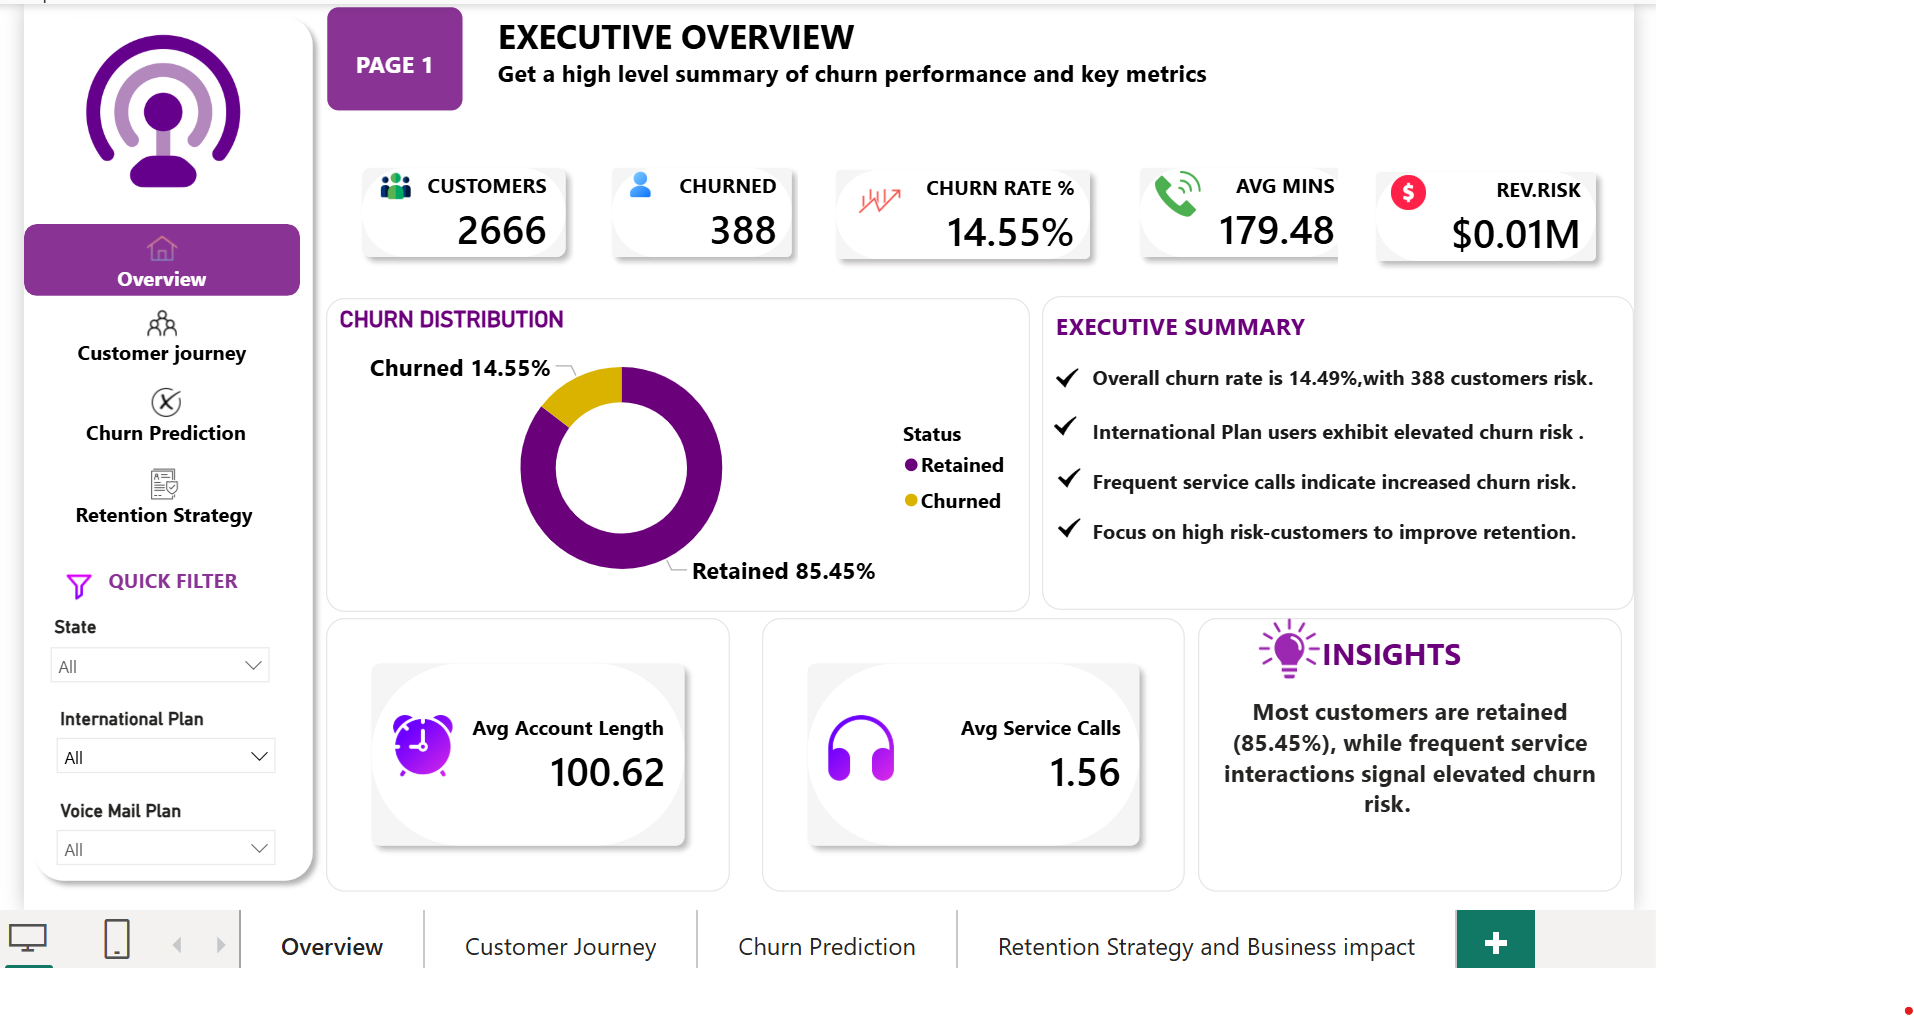

The dashboard page shown, as its layout file describes it:
{"tool":"powerbi","page":{"name":"Overview 1","canvas":[1280,720],"ordinal":0},"visuals":[{"type":"shape","box":[0,1.6,238.4,720],"z":0},{"type":"cardVisual","fields":{"Data":["telecom churn.TOTAL CUSTOMERS"]},"box":[238.4,100.1,222.5,131.9],"z":1000},{"type":"cardVisual","fields":{"Data":["telecom churn.churned customers"]},"box":[437.1,100.1,203.4,131.9],"z":2000},{"type":"cardVisual","fields":{"Data":["telecom churn.churn rate %"]},"box":[615.1,101.7,262.3,131.9],"z":3000},{"type":"cardVisual","fields":{"Data":["telecom churn.avg daily minutes"]},"box":[856.7,100.1,227.3,131.9],"z":4000},{"type":"cardVisual","fields":{"Data":["telecom churn.revenue at risk"]},"box":[1044.2,103.3,235.2,131.9],"z":5000},{"type":"donutChart","title":" CHURN DISTRIBUTION","fields":{"Y":["churn status.Customer Count"],"Category":["churn status.Status"]},"box":[240,233.6,559.5,249.5],"z":6000},{"type":"image","box":[42.9,19.1,135.1,133.5],"z":7000},{"type":"actionButton","box":[0,174.8,219.3,57.2],"z":8000},{"type":"actionButton","box":[0,235.2,219.3,55.6],"z":9000},{"type":"actionButton","box":[3.2,298.8,219.3,57.2],"z":10000},{"type":"actionButton","box":[0,367.2,216.2,58.8],"z":11000},{"type":"textbox","box":[240,1.6,1047.4,84.2],"z":14000},{"type":"textbox","box":[17.5,441.9,201.9,41.3],"z":15000},{"type":"image","box":[14.3,451.4,58.8,23.8],"z":16000},{"type":"slicer","fields":{"Values":["telecom churn.state"]},"box":[11.1,487.9,193.9,60.4],"z":17000},{"type":"slicer","fields":{"Values":["telecom churn.International Plan"]},"box":[11.1,567.4,193.9,60.4],"z":19000},{"type":"slicer","fields":{"Values":["telecom churn.Voice Mail Plan"]},"box":[11.1,645.3,193.9,60.4],"z":20000},{"type":"textbox","box":[809,232.1,470.5,249.5],"z":21000},{"type":"cardVisual","fields":{"Data":["churn status.Avg Account Length"]},"box":[240,487.9,321.1,217.7],"z":22000},{"type":"cardVisual","fields":{"Data":["telecom churn.avg service calls"]},"box":[586.5,487.9,336,217.7],"z":23000},{"type":"textbox","box":[933,487.9,337,217.7],"z":24000},{"type":"image","box":[799.5,287.7,58.8,19.1],"z":25000},{"type":"image","box":[797.9,325.8,58.8,19.1],"z":26000},{"type":"image","box":[801.1,367.2,58.8,19.1],"z":27000},{"type":"image","box":[801.1,406.9,58.8,19.1],"z":28000},{"type":"image","box":[966.7,488.3,78.3,48.3],"z":29000},{"type":"textbox","box":[240,1.6,109.7,84.2],"z":29001}]}

Visuals, with their boxes on the page's 1280x720 design canvas (x1, y1, x2, y2). These are canvas units, not pixel positions in the 1914x1016 screenshot, which may show the page scaled, cropped or inside an application window:
shape: {"x1": 0, "y1": 2, "x2": 238, "y2": 722}
cardVisual - telecom churn.TOTAL CUSTOMERS: {"x1": 238, "y1": 100, "x2": 461, "y2": 232}
cardVisual - telecom churn.churned customers: {"x1": 437, "y1": 100, "x2": 640, "y2": 232}
cardVisual - telecom churn.churn rate %: {"x1": 615, "y1": 102, "x2": 877, "y2": 234}
cardVisual - telecom churn.avg daily minutes: {"x1": 857, "y1": 100, "x2": 1084, "y2": 232}
cardVisual - telecom churn.revenue at risk: {"x1": 1044, "y1": 103, "x2": 1279, "y2": 235}
" CHURN DISTRIBUTION" donutChart: {"x1": 240, "y1": 234, "x2": 800, "y2": 483}
image: {"x1": 43, "y1": 19, "x2": 178, "y2": 153}
actionButton: {"x1": 0, "y1": 175, "x2": 219, "y2": 232}
actionButton: {"x1": 0, "y1": 235, "x2": 219, "y2": 291}
actionButton: {"x1": 3, "y1": 299, "x2": 222, "y2": 356}
actionButton: {"x1": 0, "y1": 367, "x2": 216, "y2": 426}
textbox: {"x1": 240, "y1": 2, "x2": 1287, "y2": 86}
textbox: {"x1": 18, "y1": 442, "x2": 219, "y2": 483}
image: {"x1": 14, "y1": 451, "x2": 73, "y2": 475}
slicer - telecom churn.state: {"x1": 11, "y1": 488, "x2": 205, "y2": 548}
slicer - telecom churn.International Plan: {"x1": 11, "y1": 567, "x2": 205, "y2": 628}
slicer - telecom churn.Voice Mail Plan: {"x1": 11, "y1": 645, "x2": 205, "y2": 706}
textbox: {"x1": 809, "y1": 232, "x2": 1280, "y2": 482}
cardVisual - churn status.Avg Account Length: {"x1": 240, "y1": 488, "x2": 561, "y2": 706}
cardVisual - telecom churn.avg service calls: {"x1": 586, "y1": 488, "x2": 922, "y2": 706}
textbox: {"x1": 933, "y1": 488, "x2": 1270, "y2": 706}
image: {"x1": 800, "y1": 288, "x2": 858, "y2": 307}
image: {"x1": 798, "y1": 326, "x2": 857, "y2": 345}
image: {"x1": 801, "y1": 367, "x2": 860, "y2": 386}
image: {"x1": 801, "y1": 407, "x2": 860, "y2": 426}
image: {"x1": 967, "y1": 488, "x2": 1045, "y2": 537}
textbox: {"x1": 240, "y1": 2, "x2": 350, "y2": 86}
